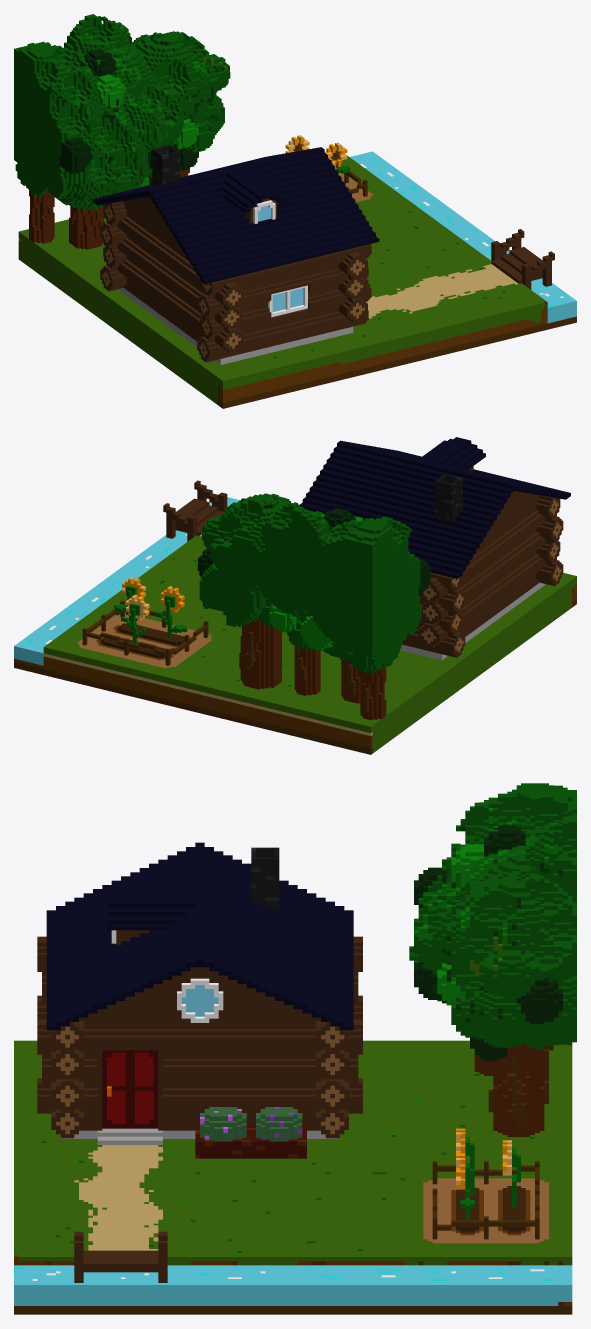
File: Map.obj
3 views of the same model, one above another, from view 1: azimuth 30°, elevation 25°; view 2: azimuth 150°, elevation 25°; view 3: azimuth 270°, elevation 25° (orthographic). The views are drawn at different scales.
Size of the model in its own units: 12.2 by 7.3 by 12.1.
Materials: 1 (1 with a texture image).
